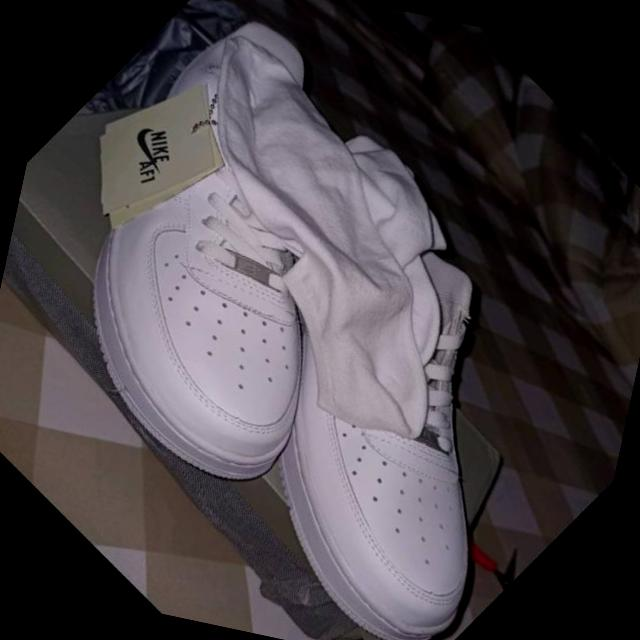nike_fake_airforce: (60, 49, 640, 640), (0, 0, 534, 557)
